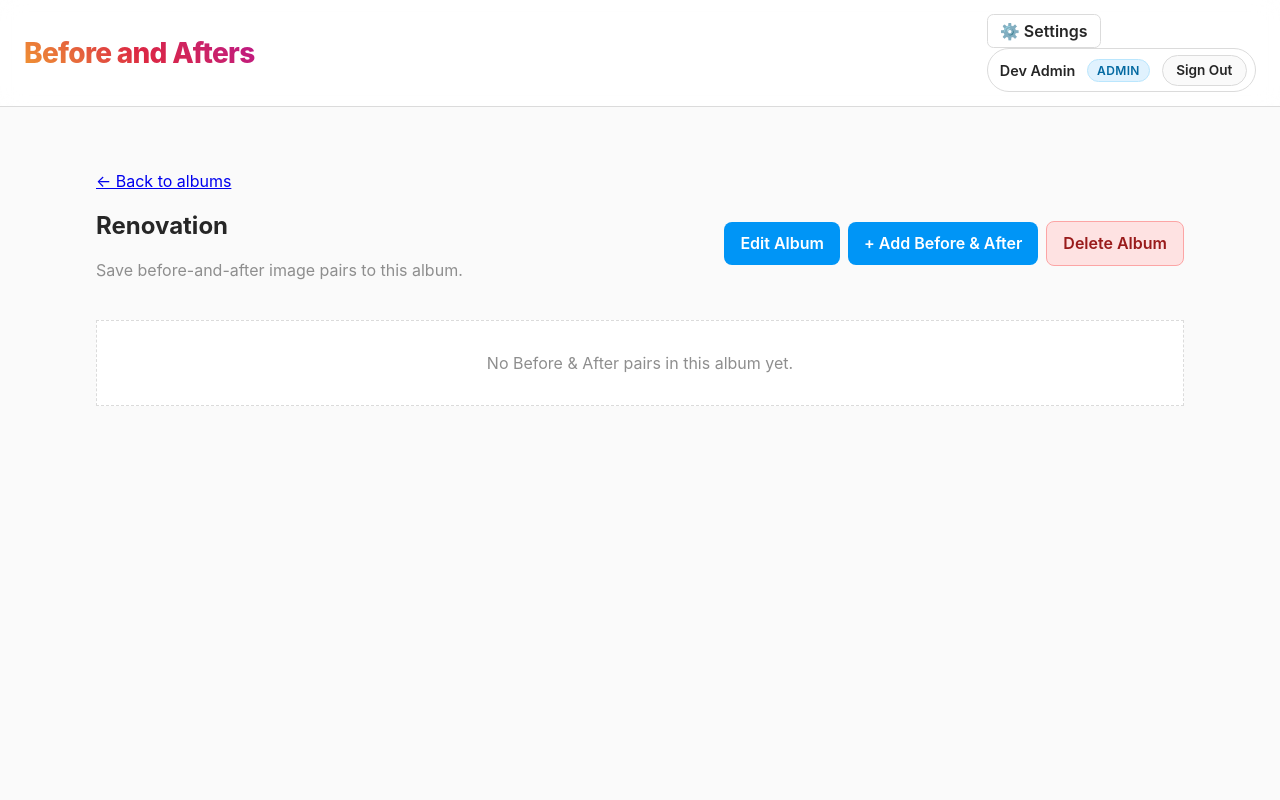
Test: shows the new photo form only after selecting add new photo
Expected: the heading "Renovation" is shown, [96,211,228,240]
Expected: the field labelled "set name" is not shown
Click the button "+ Add Before & After". click: (943, 243)
box: [848,222,1038,265]
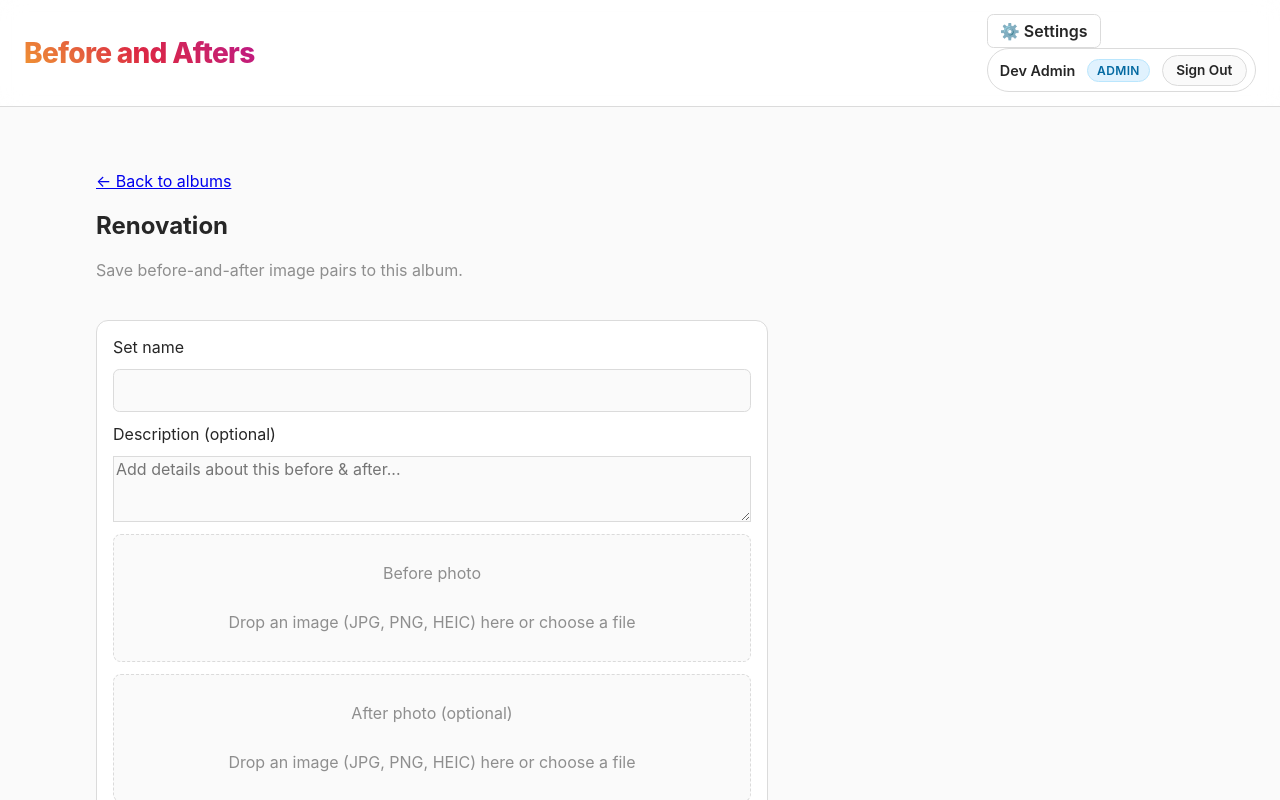
Now the field labelled "Set name" is shown, box [113,369,751,412]
